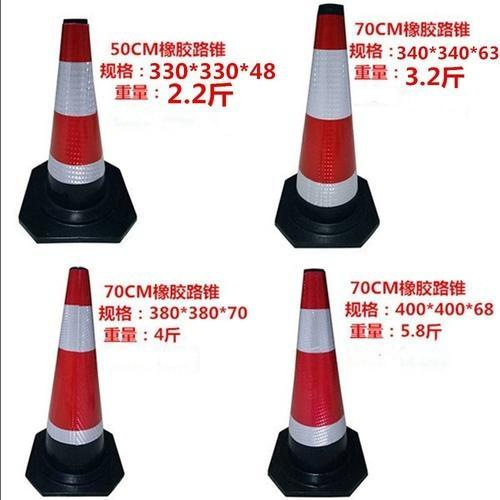cone_barrel: (278, 11, 375, 245), (270, 264, 360, 491), (29, 272, 122, 491), (28, 20, 122, 230)
